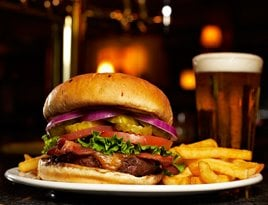soup: (22, 73, 185, 185)
